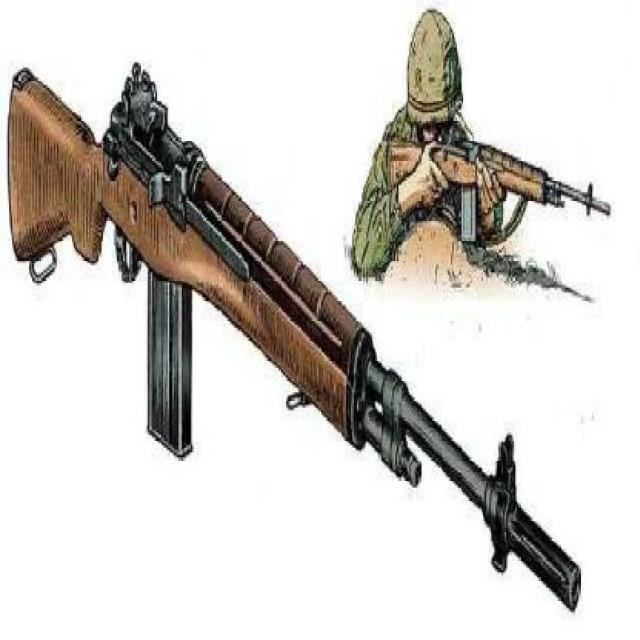weapon: (6, 58, 576, 614), (377, 115, 612, 250)
